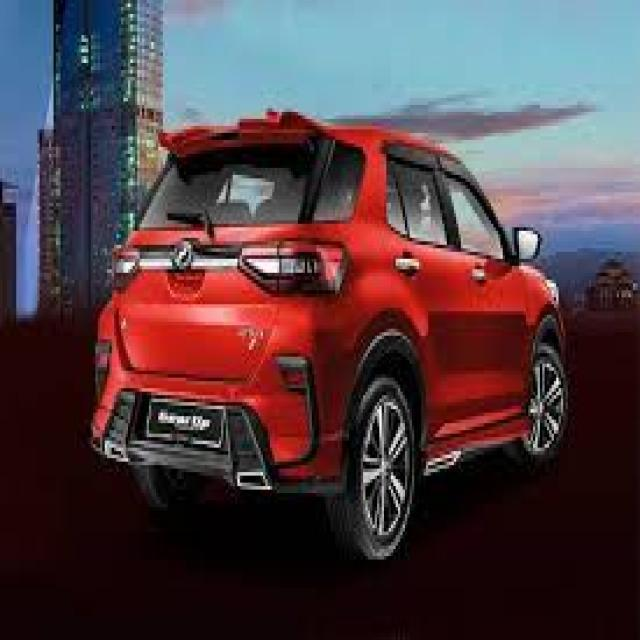PeroduaAtiva: (86, 107, 576, 562)
